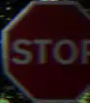Stop: (2, 5, 88, 97)
